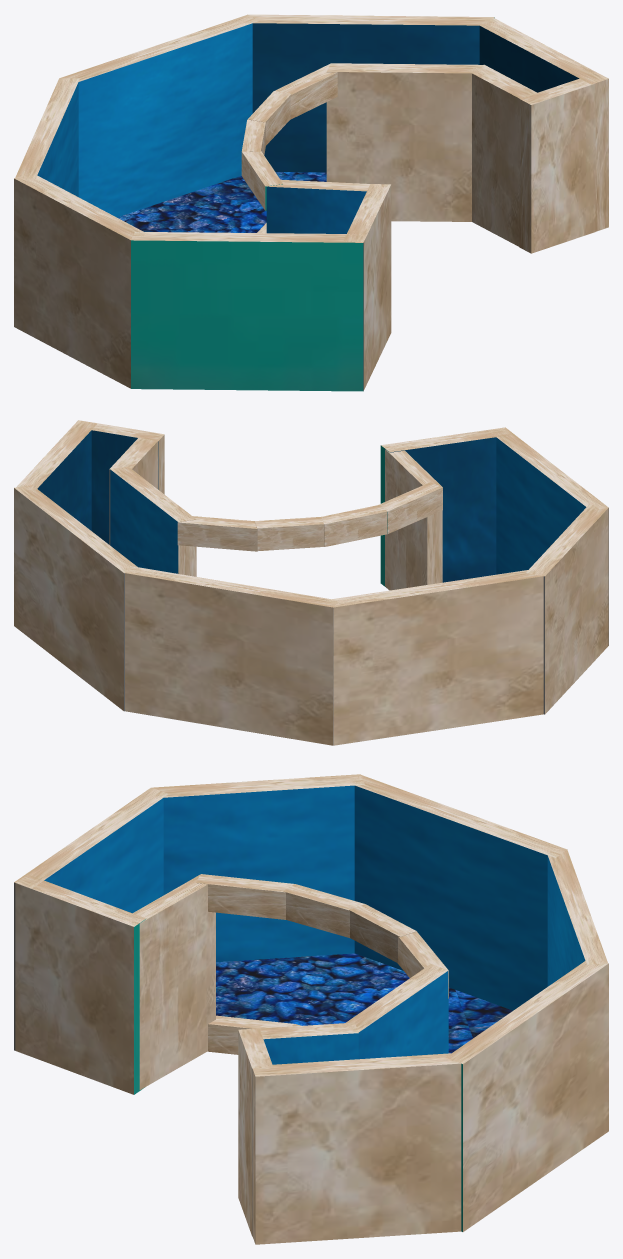
The model's file is area_pinguino.obj.
3 views of the same model, one above another, from view 1: azimuth 30°, elevation 25°; view 2: azimuth 150°, elevation 25°; view 3: azimuth 270°, elevation 25° (orthographic). The views are drawn at different scales.
Parts seen in each view (by area): view 1: polySurface8 pPlane6; view 2: polySurface8 pPlane6; view 3: polySurface8 pPlane6.
Boxes of the visible parts, left/top/right/bottom form: polySurface8 pPlane6: left=14, top=14, right=608, bottom=391; polySurface8 pPlane6: left=14, top=420, right=608, bottom=745; polySurface8 pPlane6: left=14, top=774, right=608, bottom=1244.
Bounding box in the file's own units: 43.33 × 11.22 × 36.01.
14 materials, 13 textured.
